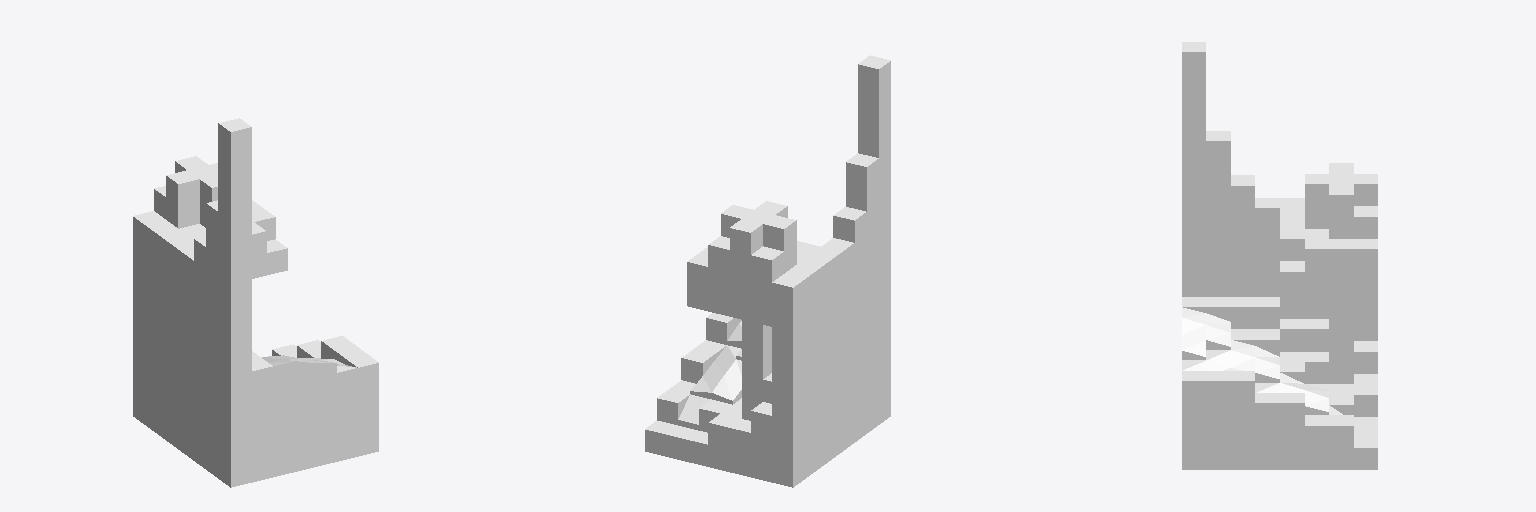
File: mineways_tri.obj
3 renders of one model, left to right at view 1: azimuth 30°, elevation 25°; view 2: azimuth 150°, elevation 25°; view 3: azimuth 270°, elevation 25°, orthographic.
Parts seen in each view (by area): view 1: New_World__259_105_0_to_265_319_7; view 2: New_World__259_105_0_to_265_319_7; view 3: New_World__259_105_0_to_265_319_7.
Part boxes in pixels (x1,y1,x2,y2): New_World__259_105_0_to_265_319_7: (133,118,378,487); New_World__259_105_0_to_265_319_7: (645,55,890,487); New_World__259_105_0_to_265_319_7: (1182,42,1377,469).
Size of the model in its own units: 1.05 by 2.4 by 1.2.